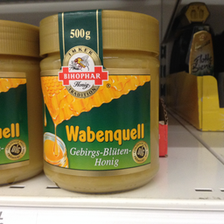honey: (33, 10, 165, 194)
